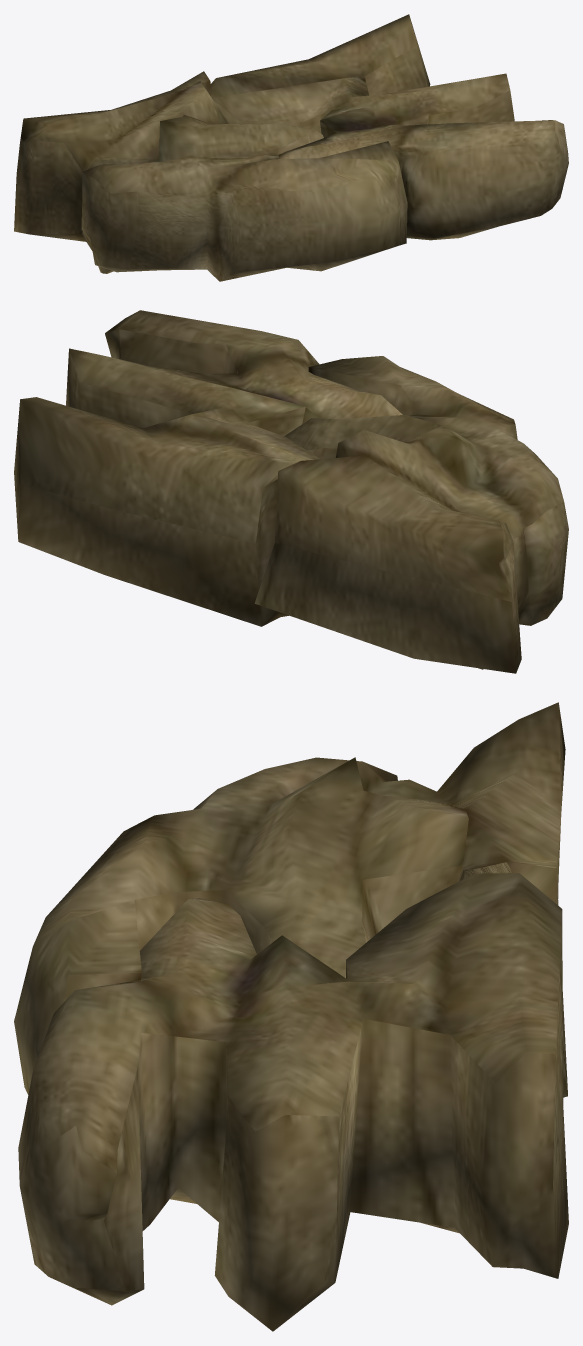
Rendered from military_sandbag_desert_endsection_left.glb.
The picture shows the model from 3 angles, top to bottom: view 1: azimuth 30°, elevation 25°; view 2: azimuth 150°, elevation 25°; view 3: azimuth 270°, elevation 25°; orthographic projection. The views are drawn at different scales.
Size of the model in its own units: 60.44 by 21.85 by 33.4.
Materials: 1 (1 with a texture image).
